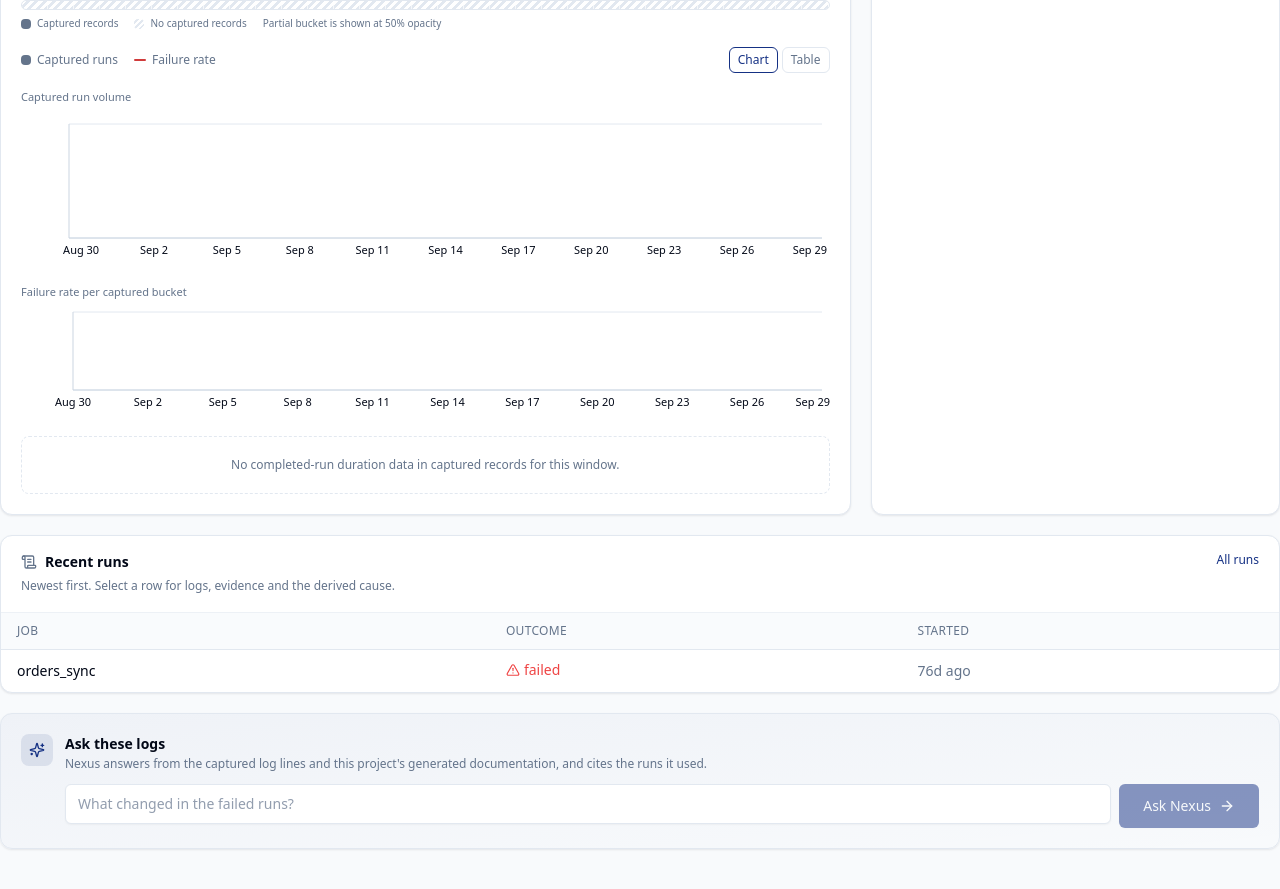
Test: RuntimeLogsPage › keeps repeated identical log lines distinct
(page scrolled)
Click the text "orders_sync": click(56, 670) [1,649,490,692]
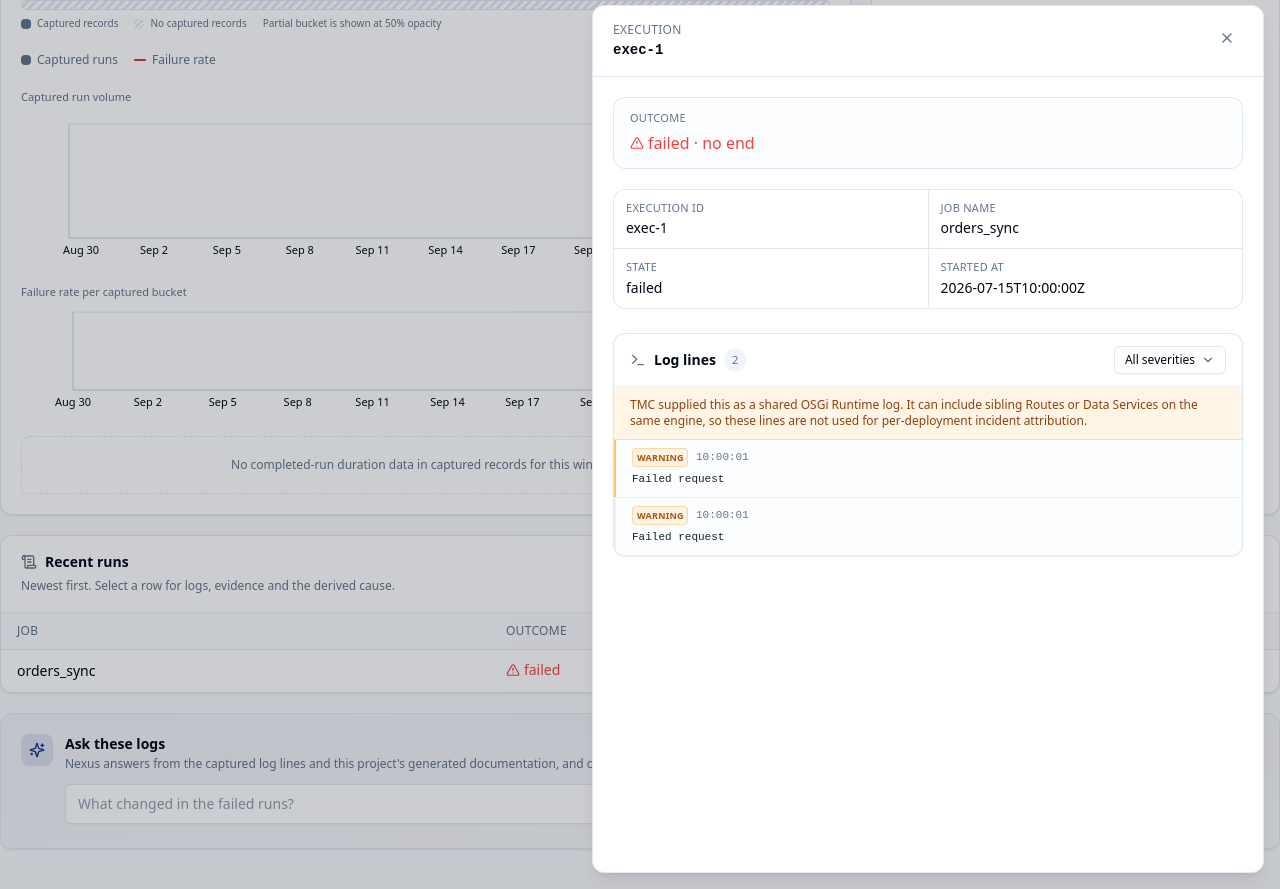
Now the text "Failed request" is shown 2 times, box [632,473,724,485]; [632,531,724,543]
